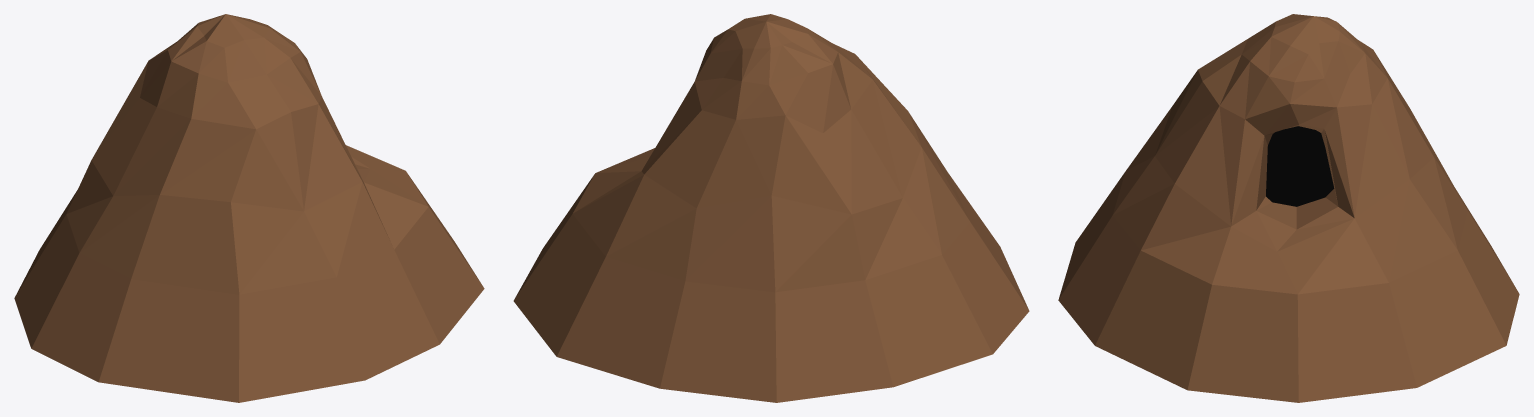
The model's file is Colony.fbx.
The picture shows the model from 3 angles, left to right: view 1: azimuth 30°, elevation 25°; view 2: azimuth 150°, elevation 25°; view 3: azimuth 270°, elevation 25°; orthographic projection. The views are drawn at different scales.
Visible parts, largest first — view 1: Circle; view 2: Circle; view 3: Circle.
Boxes of the visible parts, x1=… form: Circle: x1=14, y1=14, x2=484, y2=402; Circle: x1=513, y1=14, x2=1029, y2=402; Circle: x1=1058, y1=14, x2=1519, y2=402.
Bounding box in the file's own units: 289 × 179 × 269.
